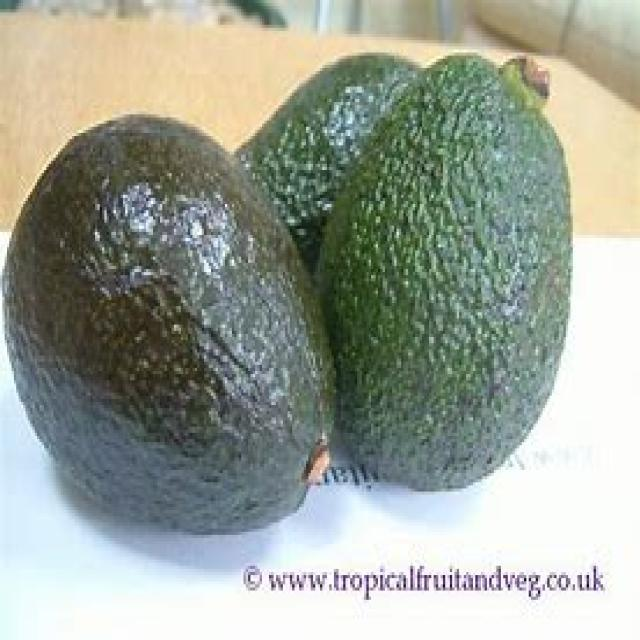avocado: (0, 108, 331, 542), (311, 58, 577, 499)
